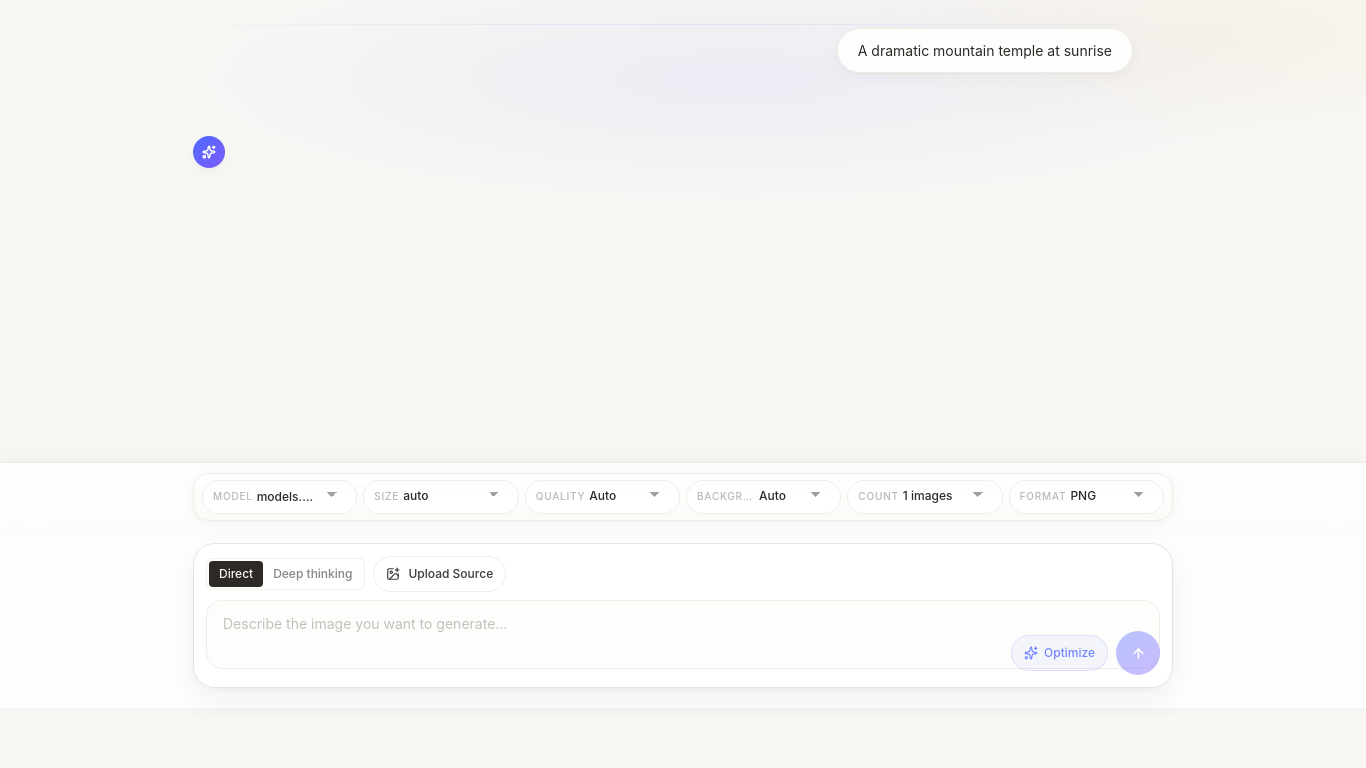
Test: GeneratePage › keeps the prompt optimize button visible when no LLM config is enabled
Type "A quiet moonlit observatory" into the text box with placeholder "Describe the image you want to generate..." at x=683, y=634, box [206,600,1160,669]
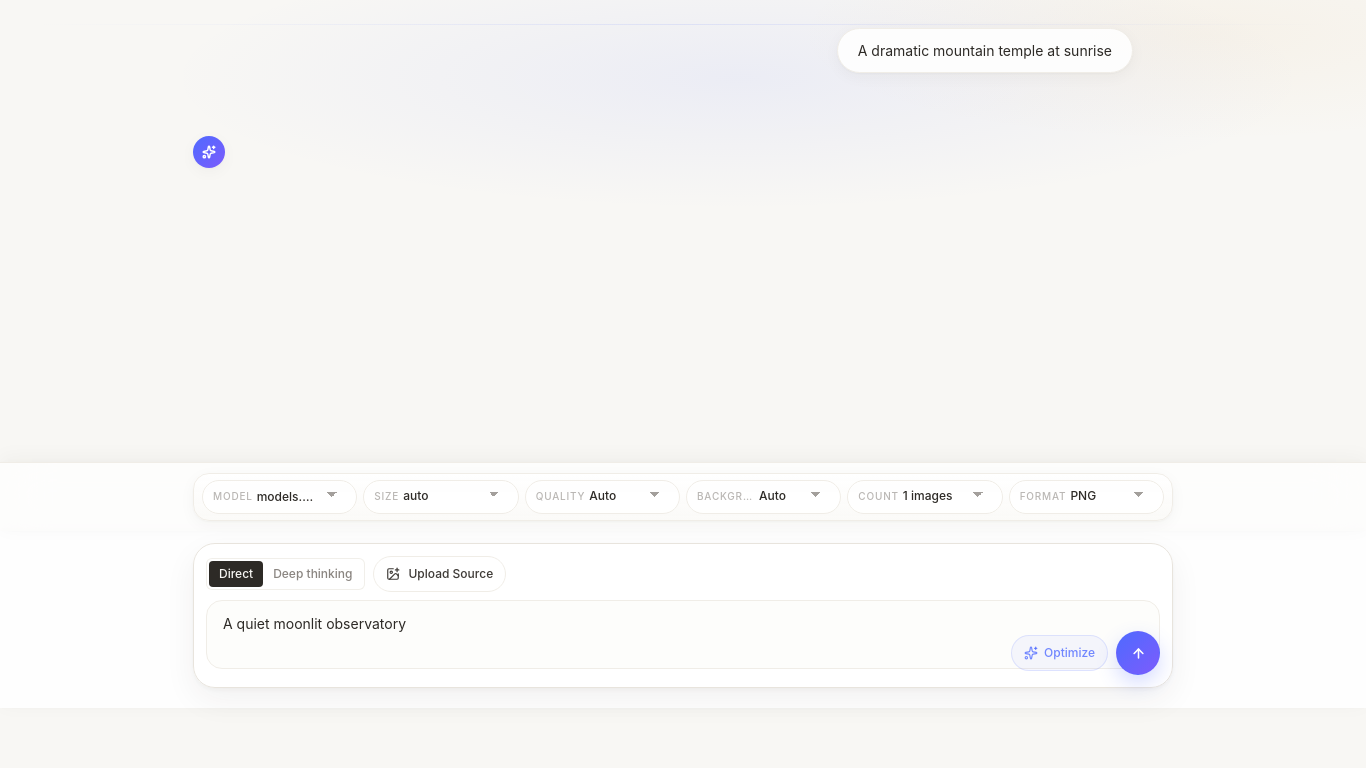
Click the button "Optimize" at x=1060, y=653, box [1011,635,1108,671]
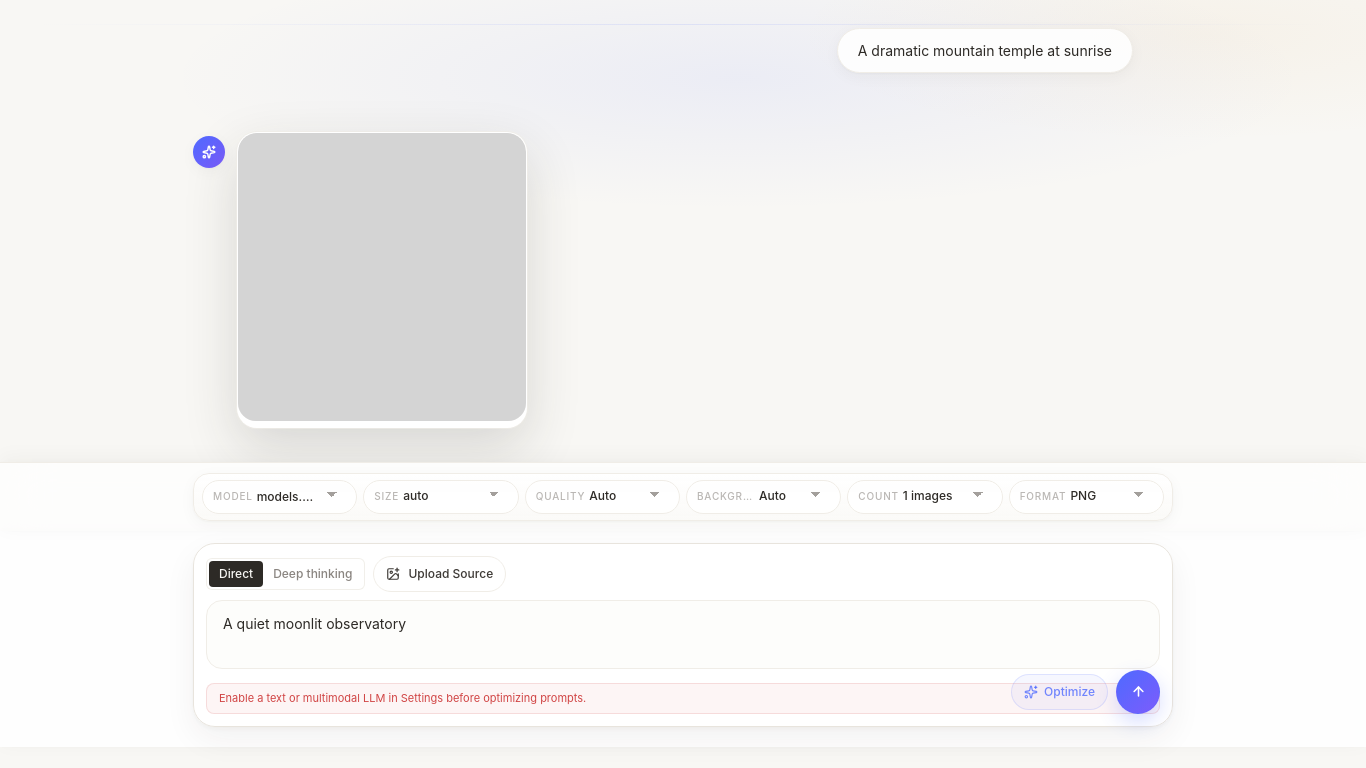
expect the text "Enable a text or multimodal LLM in Settings before optimizing prompts." is shown: met, box [206,683,1160,714]
